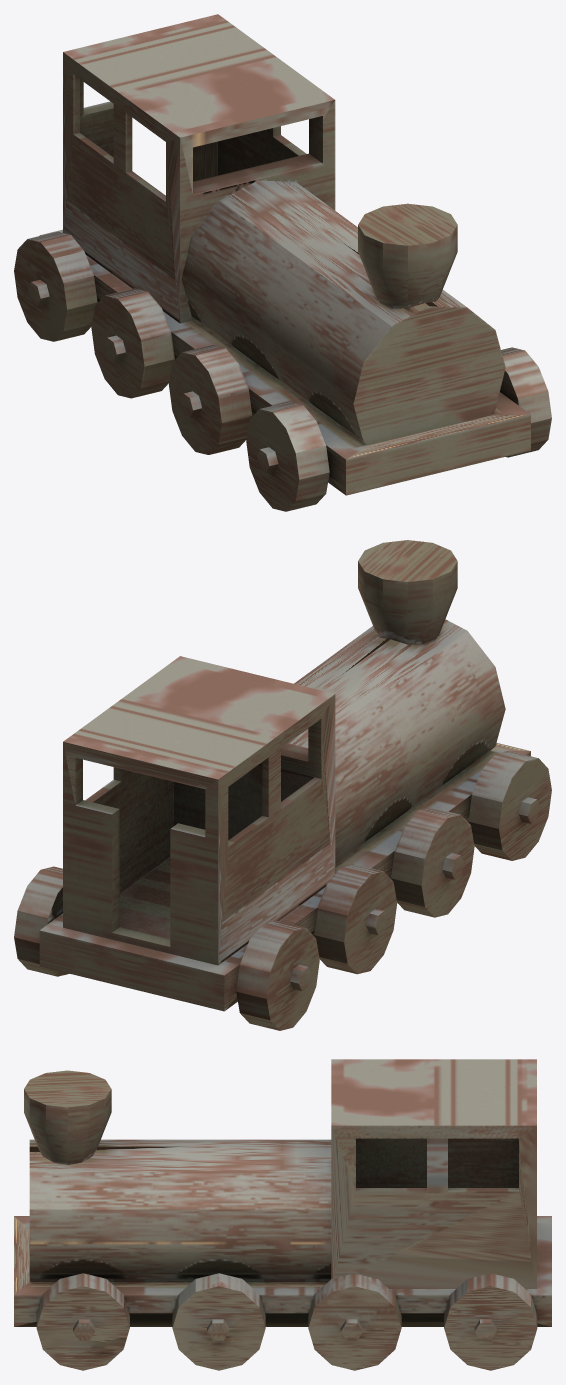
File: toytrain01.fbx
The picture shows the model from 3 angles, top to bottom: view 1: azimuth 30°, elevation 25°; view 2: azimuth 150°, elevation 25°; view 3: azimuth 270°, elevation 25°; orthographic projection. The views are drawn at different scales.
Visible parts, largest first — view 1: toy train; view 2: toy train; view 3: toy train.
Part boxes in pixels (bbox=[...]): toy train: bbox=[14, 14, 551, 511]; toy train: bbox=[14, 540, 551, 1030]; toy train: bbox=[14, 1059, 551, 1370].
Bounding box in the file's own units: 0.2905 × 0.569 × 0.2657.
1 material, 1 textured.
